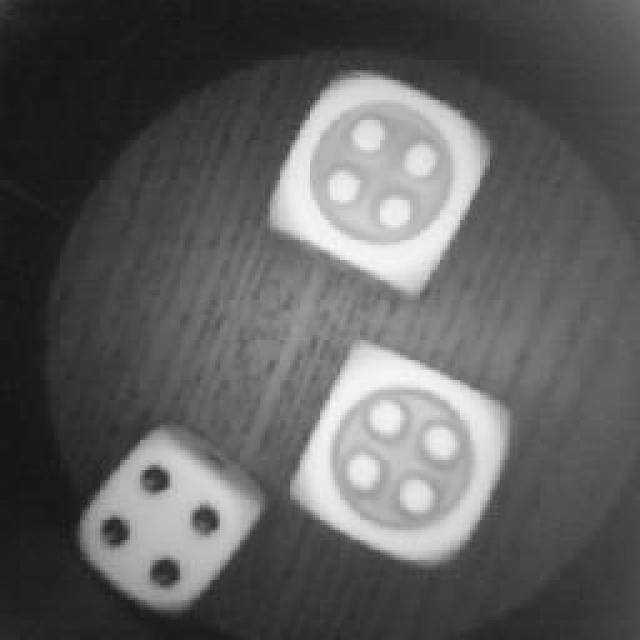dice_4: (272, 62, 478, 292), (300, 345, 508, 565), (82, 435, 248, 605)
